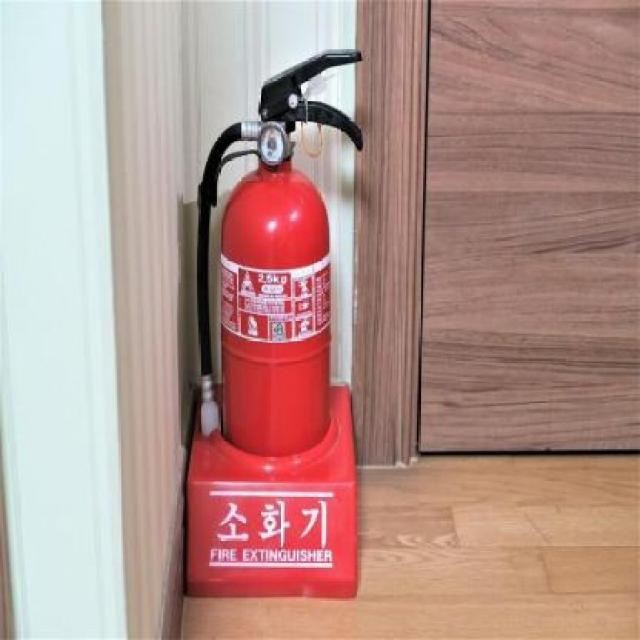fire extinguisher: (198, 48, 364, 457)
